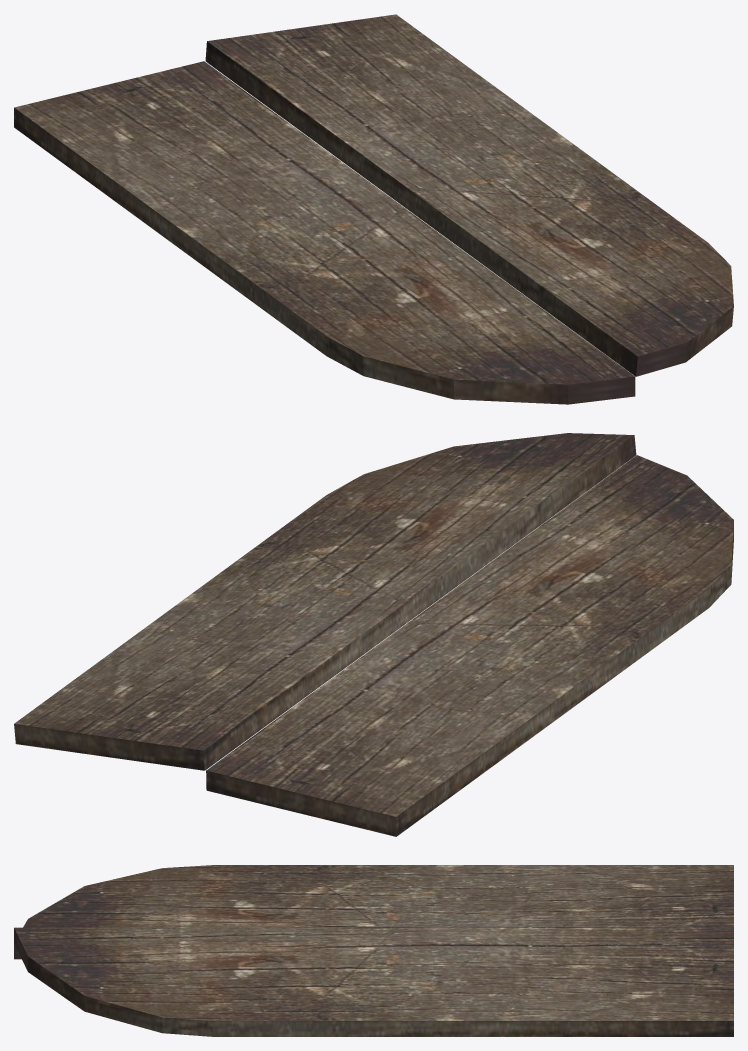
File: prop_door_wood_arched.glb
The picture shows the model from 3 angles, top to bottom: view 1: azimuth 30°, elevation 25°; view 2: azimuth 150°, elevation 25°; view 3: azimuth 270°, elevation 25°; orthographic projection. The views are drawn at different scales.
Size of the model in its own units: 52.23 by 6.32 by 102.
1 material, 1 textured.
